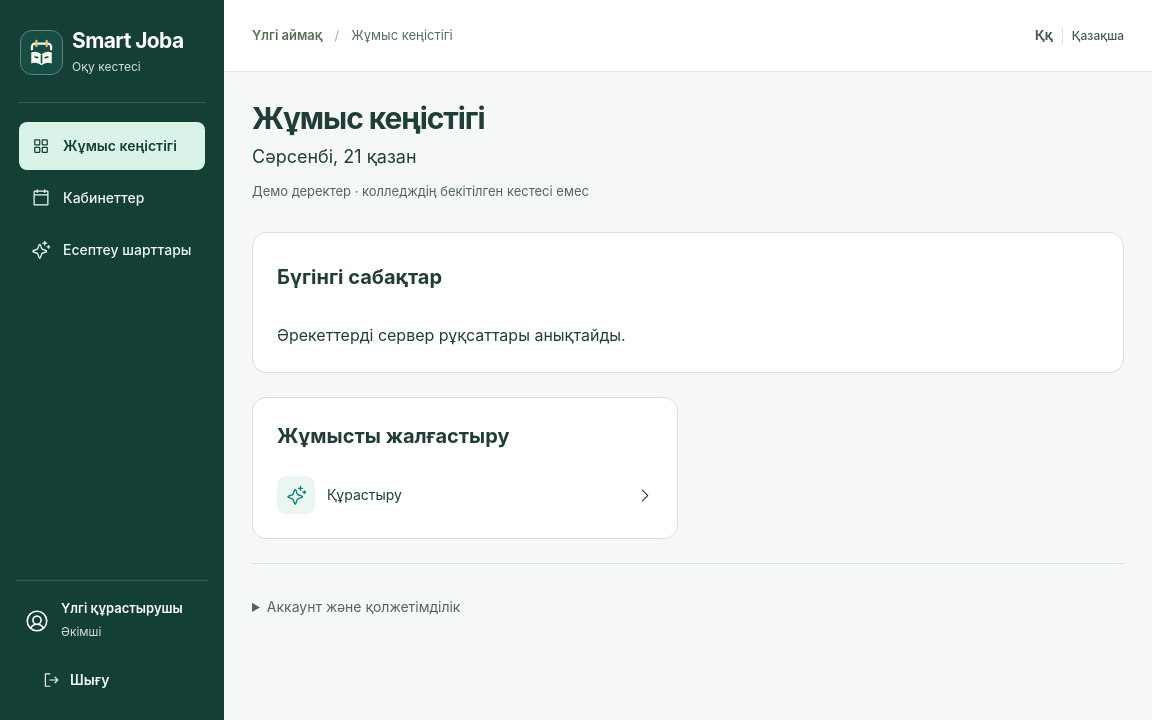
Test case: REQ-006: server-provided workspace and session › renders the server-provided admin workspace
Check: the text "Әкімші" is shown, box [61, 624, 101, 639]
Click the heading "Аккаунт және қолжетімділік": (364, 607) [267, 598, 460, 615]
(page scrolled)
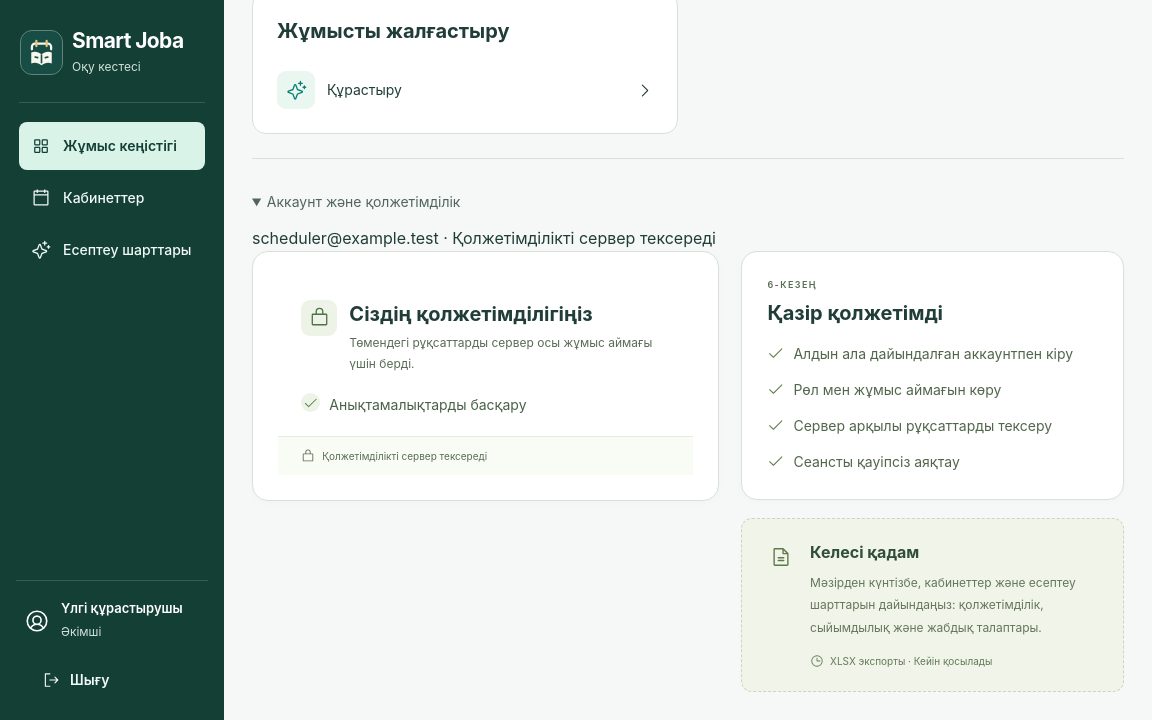
Check: the text "Мәзірден күнтізбе, кабинеттер және есептеу шарттарын дайындаңыз: қолжетімділік, сыйымдылық және жабдық талаптары." is shown, box [810, 575, 1076, 635]
